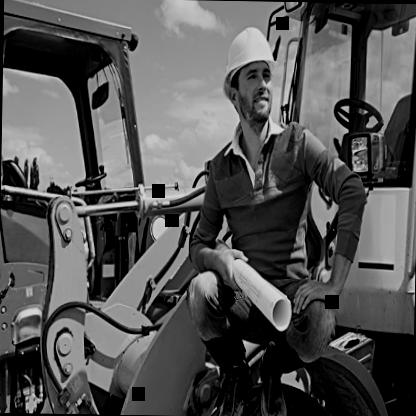helmet: (212, 21, 282, 132)
